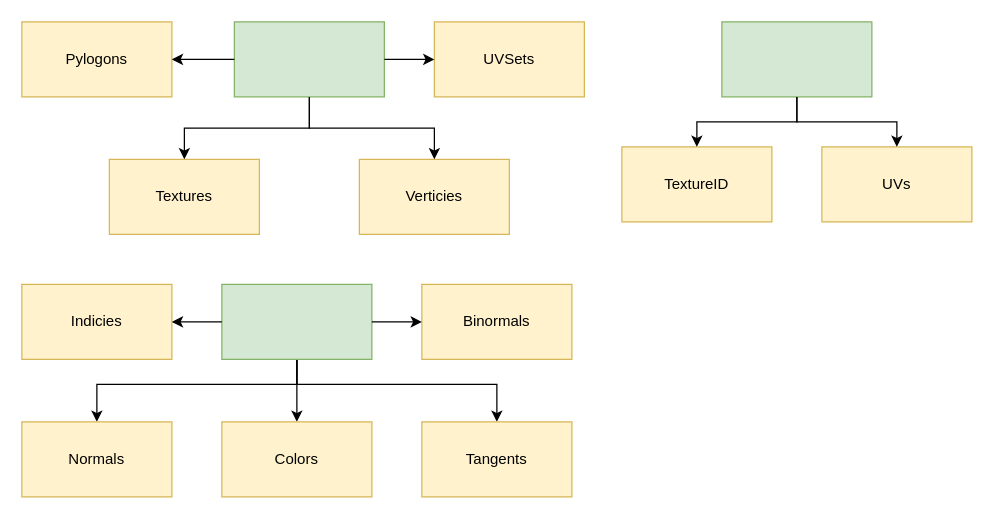
The diagram is 994 pixels wide and 519 high, and some of its shapes have lost their labels. The box of each missing label's shape, as (x1, y1, x2, y2) in pixels:
Mesh: (233, 21, 384, 97)
Polygon: (221, 283, 372, 359)
UVSet: (721, 21, 872, 97)
